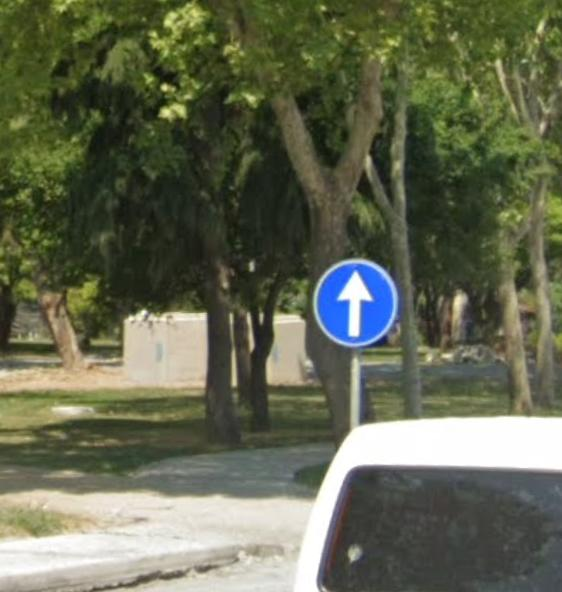forward: (306, 255, 403, 354)
